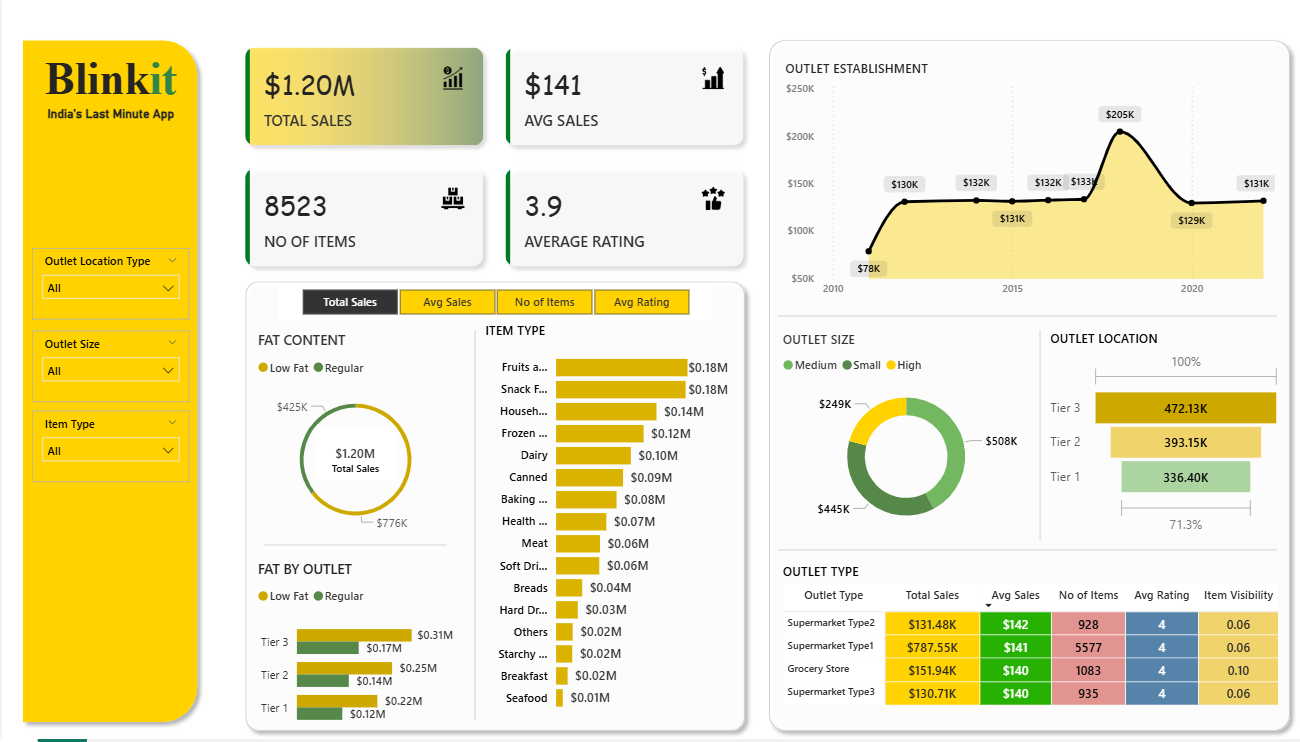

Layout of this report page (visuals, bound fields, positions):
{"tool":"powerbi","page":{"name":"Page 1","canvas":[1400,800],"ordinal":0},"visuals":[{"type":"shape","box":[13.4,41.6,205.1,749.3],"z":0},{"type":"textbox","box":[24.1,60.3,185,71],"z":1000},{"type":"textbox","box":[8,115.3,217.2,30.8],"z":2000},{"type":"cardVisual","fields":{"Data":["BlinkIT Grocery Data.Total Sales","BlinkIT Grocery Data.Average Sales","BlinkIT Grocery Data.No of Items","BlinkIT Grocery Data.Average Rating"]},"box":[244,41.6,569.7,269.4],"z":3000},{"type":"shape","box":[252,300.3,553.6,500],"z":4000},{"type":"slicer","fields":{"Values":["Metrics.Metrics"]},"box":[296.2,311,465.1,40.2],"z":5000},{"type":"donutChart","title":"FAT CONTENT","fields":{"Y":["BlinkIT Grocery Data.Total Sales"],"Category":["BlinkIT Grocery Data.Item Fat Content"]},"box":[269.4,361.9,219.8,229.2],"z":6000},{"type":"cardVisual","fields":{"Data":["BlinkIT Grocery Data.Total Sales"]},"box":[336.5,467.8,85.8,56.3],"z":7000},{"type":"clusteredBarChart","title":"FAT BY OUTLET","fields":{"Y":["BlinkIT Grocery Data.Total Sales"],"Category":["BlinkIT Grocery Data.Outlet Location Type"],"Series":["BlinkIT Grocery Data.Item Fat Content"]},"box":[269.4,607.2,219.8,193],"z":8000},{"type":"shape","box":[281.5,585.8,195.7,12.1],"z":9000},{"type":"shape","box":[501.3,361.9,12.1,418.2],"z":10000},{"type":"barChart","title":"ITEM TYPE","fields":{"Y":["BlinkIT Grocery Data.Total Sales"],"Category":["BlinkIT Grocery Data.Item Type"]},"box":[513.4,352.5,270.8,427.6],"z":11000},{"type":"shape","box":[813.7,41.6,576.4,758.7],"z":12000},{"type":"lineChart","title":"OUTLET ESTABLISHMENT","fields":{"Category":["BlinkIT Grocery Data.Outlet Establishment Year"],"Y":["BlinkIT Grocery Data.Total Sales"]},"box":[835.1,71,534.9,262.7],"z":13000},{"type":"shape","box":[832.4,340.5,534.9,12.1],"z":14000},{"type":"donutChart","title":"OUTLET SIZE","fields":{"Y":["BlinkIT Grocery Data.Total Sales"],"Category":["BlinkIT Grocery Data.Outlet Size"]},"box":[832.4,361.9,274.8,225.2],"z":15000},{"type":"shape","box":[1107.2,361.9,12.1,225.2],"z":16000},{"type":"funnel","title":"OUTLET LOCATION","fields":{"Category":["BlinkIT Grocery Data.Outlet Location Type"],"Y":["Sum(BlinkIT Grocery Data.Sales)"]},"box":[1119.3,360.6,257.4,225.2],"z":17000},{"type":"shape","box":[832.4,591.2,534.9,12.1],"z":18000},{"type":"pivotTable","title":"OUTLET TYPE","fields":{"Values":["BlinkIT Grocery Data.Total Sales","BlinkIT Grocery Data.Avg Sales","BlinkIT Grocery Data.No of Items","BlinkIT Grocery Data.Avg Rating","Avg(BlinkIT Grocery Data.Item Visibility)"],"Rows":["BlinkIT Grocery Data.Outlet Type"]},"box":[832.4,611.3,544.2,168.9],"z":19000},{"type":"slicer","fields":{"Values":["BlinkIT Grocery Data.Outlet Location Type"]},"box":[32.2,273.5,168.9,76.4],"z":20000},{"type":"slicer","fields":{"Values":["BlinkIT Grocery Data.Outlet Size"]},"box":[32.2,361.9,168.9,76.4],"z":21000},{"type":"slicer","fields":{"Values":["BlinkIT Grocery Data.Item Type"]},"box":[32.2,447.7,168.9,76.4],"z":22000}]}

Visuals, with their boxes in screenshot pixels (x1, y1, x2, y2), scaled from the page's 1400x800 canvas onto the 1300x742 screenshot:
shape: bbox=(12, 39, 203, 734)
textbox: bbox=(22, 56, 194, 122)
textbox: bbox=(7, 107, 209, 136)
cardVisual - BlinkIT Grocery Data.Total Sales x BlinkIT Grocery Data.Average Sales: bbox=(227, 39, 756, 288)
shape: bbox=(234, 279, 748, 741)
slicer - Metrics.Metrics: bbox=(275, 288, 707, 326)
"FAT CONTENT" donutChart: bbox=(250, 336, 454, 548)
cardVisual - BlinkIT Grocery Data.Total Sales: bbox=(312, 434, 392, 486)
"FAT BY OUTLET" clusteredBarChart: bbox=(250, 563, 454, 741)
shape: bbox=(261, 543, 443, 555)
shape: bbox=(465, 336, 477, 724)
"ITEM TYPE" barChart: bbox=(477, 327, 728, 724)
shape: bbox=(756, 39, 1291, 741)
"OUTLET ESTABLISHMENT" lineChart: bbox=(775, 66, 1272, 310)
shape: bbox=(773, 316, 1270, 327)
"OUTLET SIZE" donutChart: bbox=(773, 336, 1028, 545)
shape: bbox=(1028, 336, 1039, 545)
"OUTLET LOCATION" funnel: bbox=(1039, 334, 1278, 543)
shape: bbox=(773, 548, 1270, 560)
"OUTLET TYPE" pivotTable: bbox=(773, 567, 1278, 724)
slicer - BlinkIT Grocery Data.Outlet Location Type: bbox=(30, 254, 187, 325)
slicer - BlinkIT Grocery Data.Outlet Size: bbox=(30, 336, 187, 407)
slicer - BlinkIT Grocery Data.Item Type: bbox=(30, 415, 187, 486)
